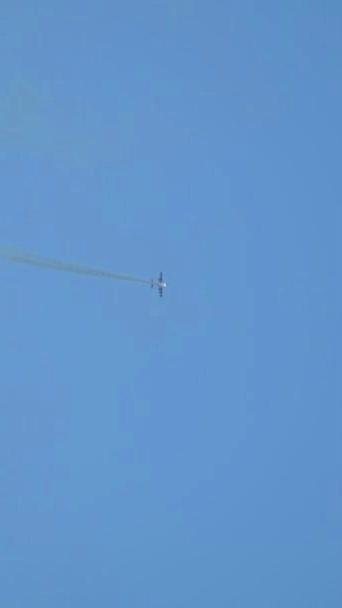Plane: (145, 262, 175, 308)
